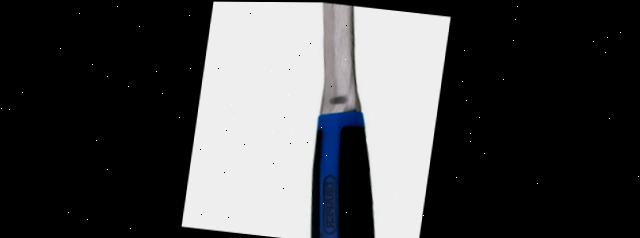hammer: (182, 1, 451, 238)
